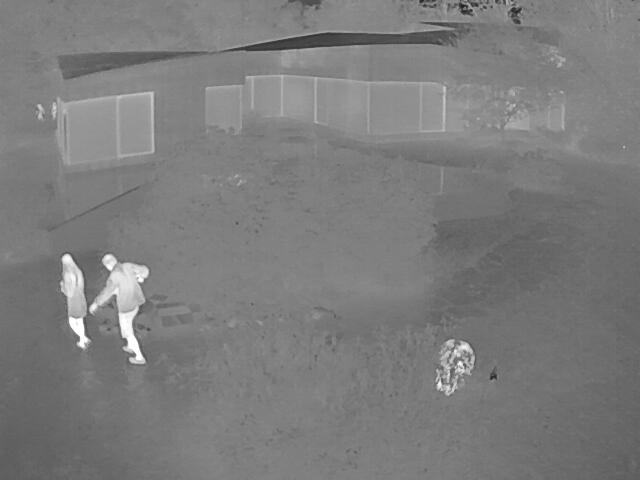person: (88, 254, 148, 364), (57, 251, 88, 348), (35, 101, 45, 120)
